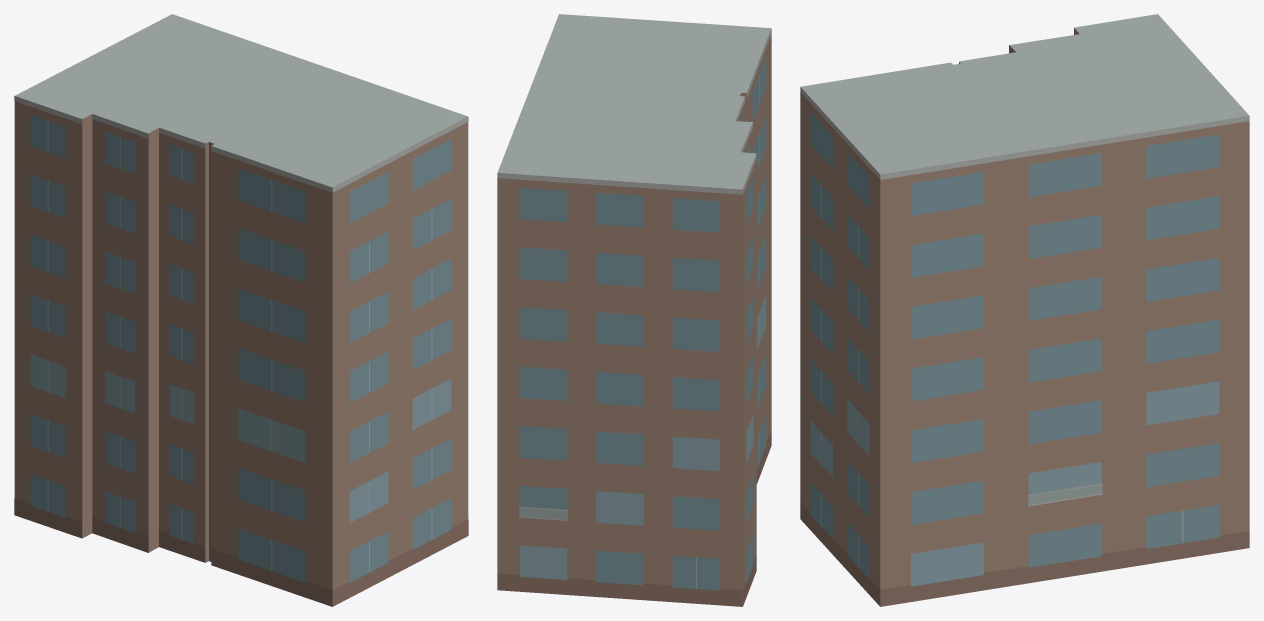
File: survey-upis-32784723.glb
3 renders of one model, left to right at view 1: azimuth 30°, elevation 25°; view 2: azimuth 150°, elevation 25°; view 3: azimuth 270°, elevation 25°, orthographic. The views are drawn at different scales.
Parts seen in each view (by area): view 1: survey-upis-32784723.tmp; view 2: survey-upis-32784723.tmp; view 3: survey-upis-32784723.tmp.
Boxes of the visible parts, bbox=[...] form: survey-upis-32784723.tmp: bbox=[14, 14, 468, 606]; survey-upis-32784723.tmp: bbox=[497, 14, 771, 606]; survey-upis-32784723.tmp: bbox=[800, 14, 1249, 606].
Bounding box in the file's own units: 15.56 × 19.52 × 18.39.
